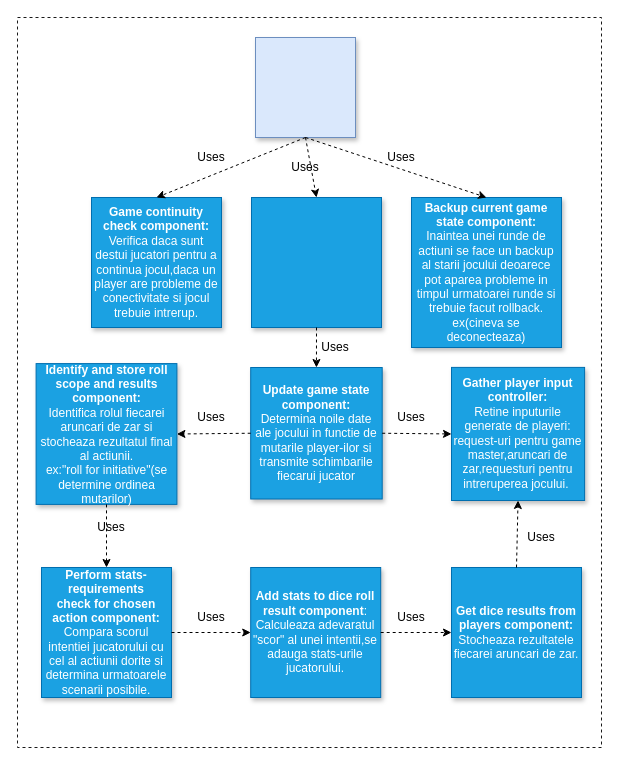
The diagram is 619 pixels wide and 765 high, and some of its shapes have lost their labels. The centre of each missing label's shape, as x and y in pixels:
Game flow regulator component: Gestioneaza tranzitia rundelor jocului.: (317,263)
Server Functionality: Sustine desfasurarea unei sesiune de D&D.: (306,88)
